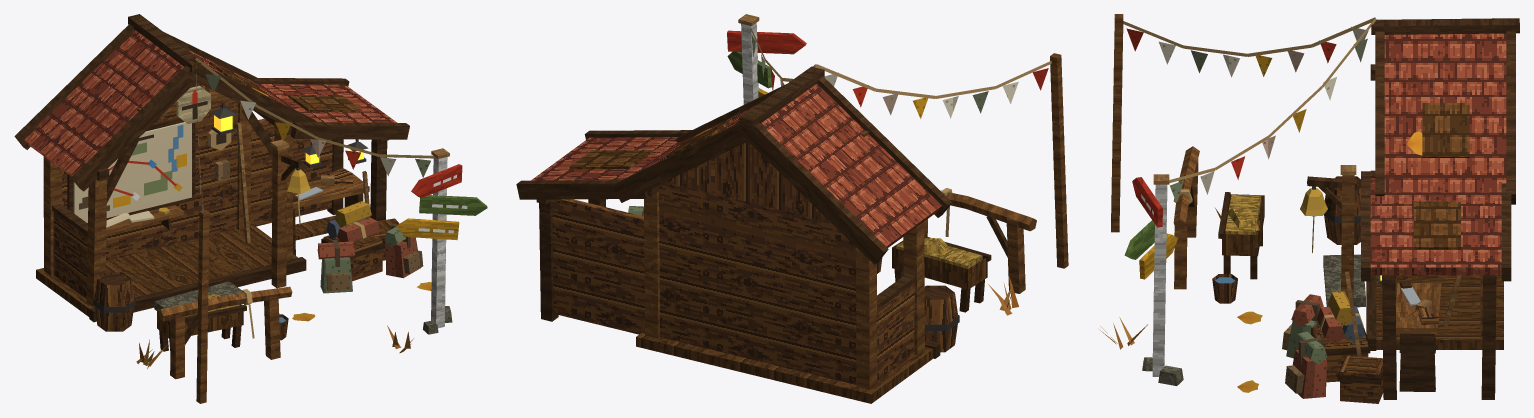
File: trail_lodge_2.glb
3 views of the same model, side by side, from view 1: azimuth 30°, elevation 25°; view 2: azimuth 150°, elevation 25°; view 3: azimuth 270°, elevation 25° (orthographic). The views are drawn at different scales.
Visible parts, largest first — view 1: trail_lodge_2, sway_pennants_b, sway_bell; view 2: trail_lodge_2, sway_pennants_a; view 3: trail_lodge_2, sway_pennants_a, sway_pennants_b, sway_bell.
Part boxes in pixels (x1,y1,x2,y2): trail_lodge_2: (14, 14, 487, 403); sway_pennants_b: (195, 57, 433, 177); sway_bell: (287, 167, 310, 224); trail_lodge_2: (516, 14, 1068, 403); sway_pennants_a: (815, 60, 1051, 118); trail_lodge_2: (1100, 14, 1519, 403); sway_pennants_a: (1123, 17, 1376, 77); sway_pennants_b: (1169, 18, 1375, 203); sway_bell: (1300, 186, 1327, 252).
Bounding box in the file's own units: 5.6 × 3.85 × 5.38.
43 materials, 25 textured.
